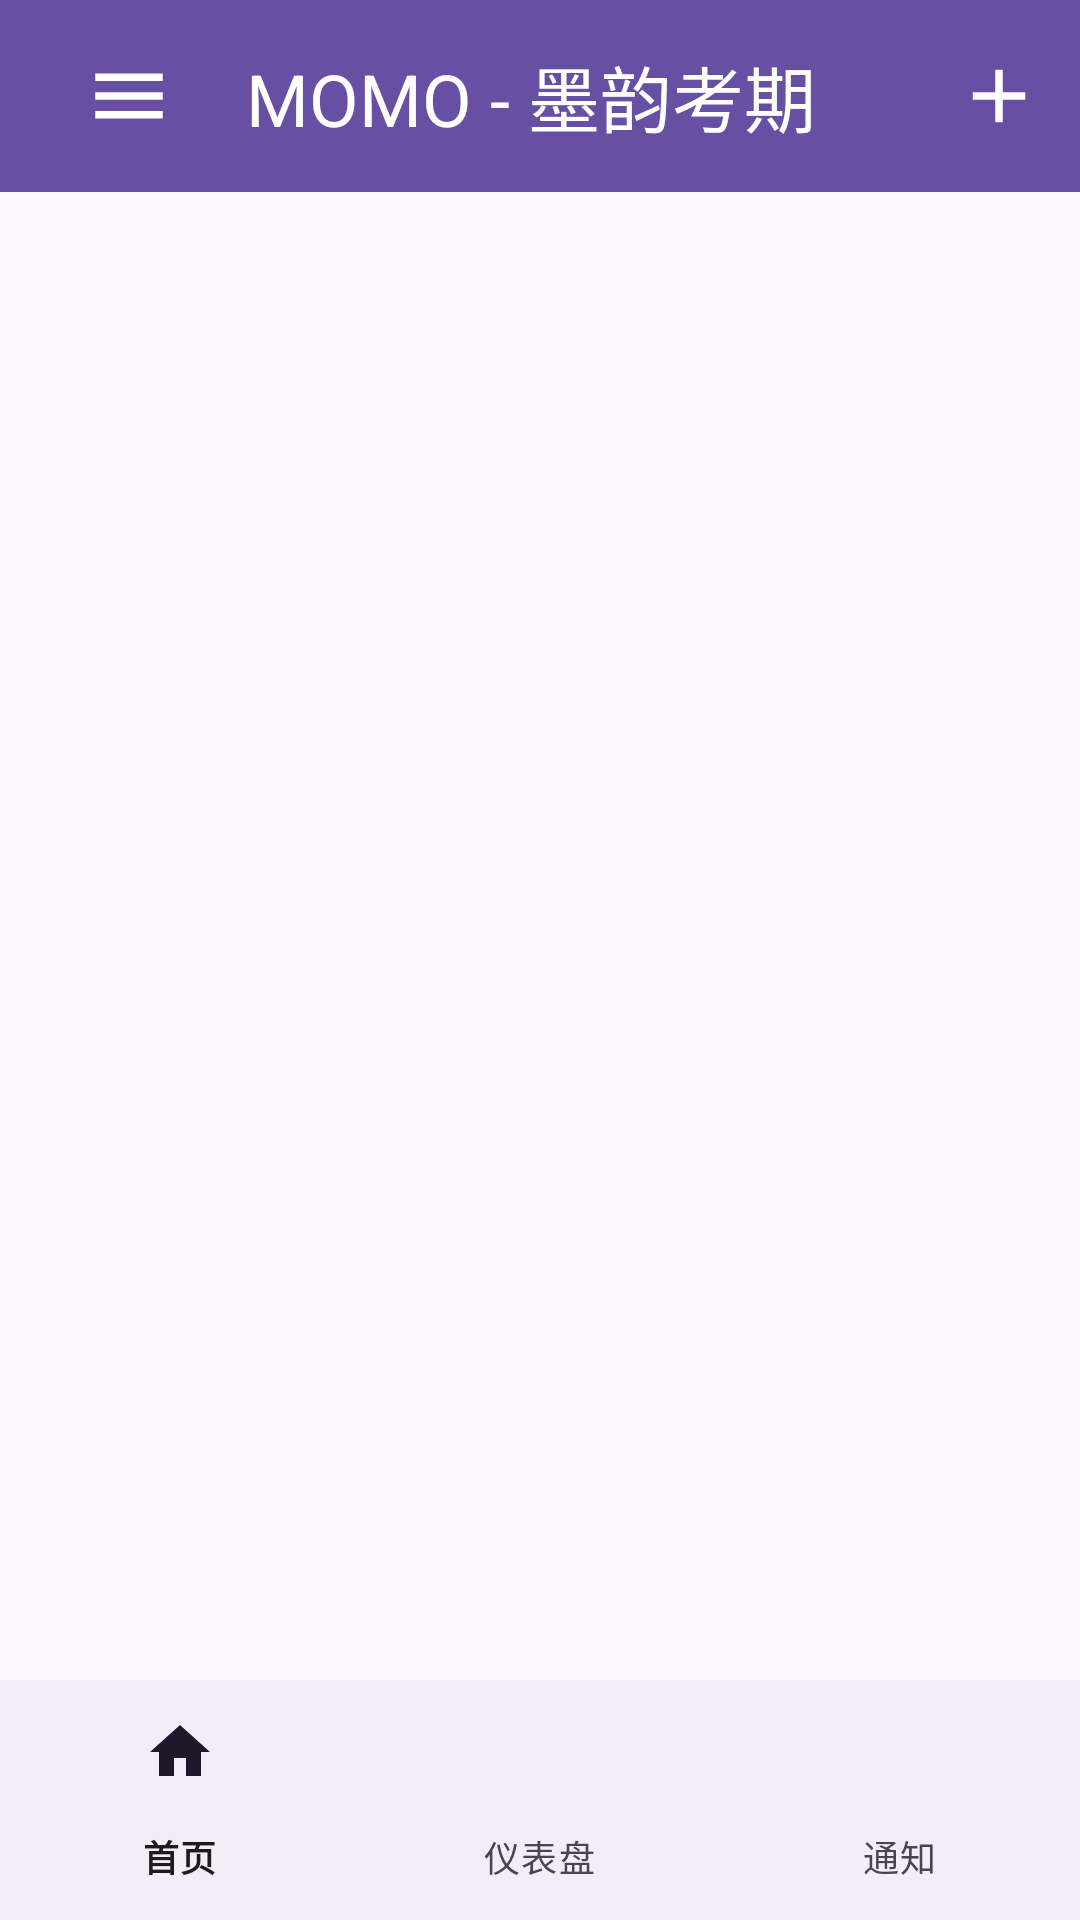

Screen size 1080*1920. Icon name, then its box in pixels as [x1=x1, y1=y1, x2=x2, y2=y2]:
侧滑菜单栏: [x1=95, y1=73, x2=163, y2=119]
添加考试按钮: [x1=972, y1=69, x2=1026, y2=123]
